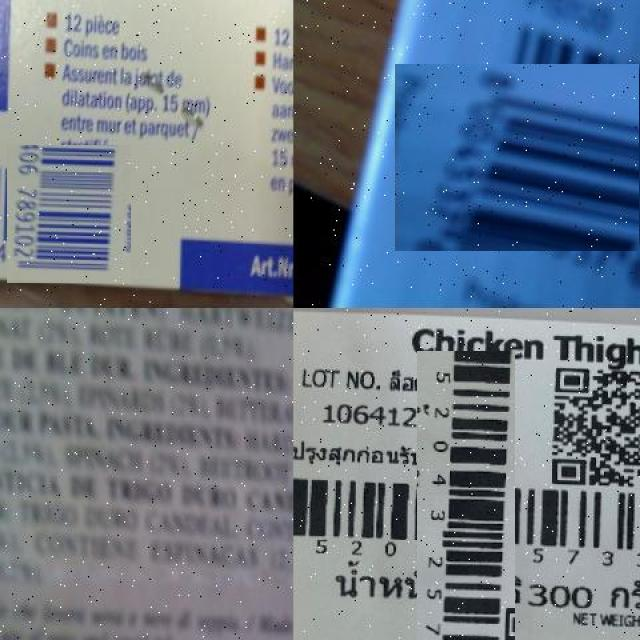Barcode: (423, 36, 640, 280), (355, 413, 578, 635), (4, 148, 135, 280)
